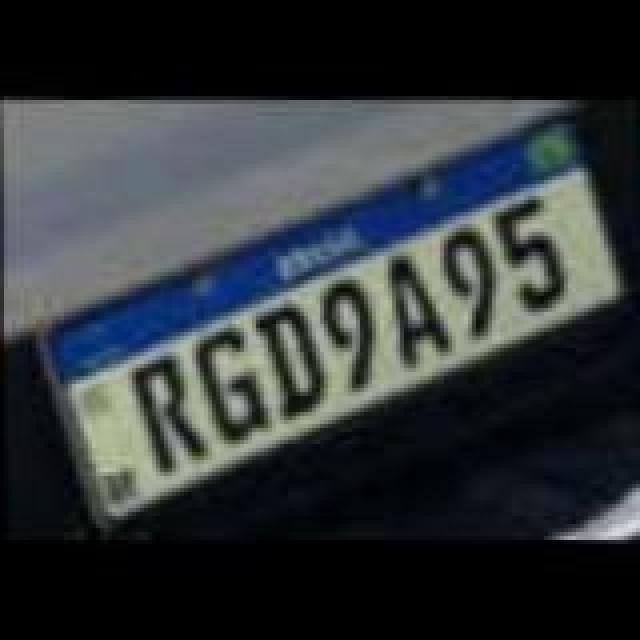5: (496, 190, 576, 314)
9: (314, 274, 386, 398), (434, 224, 506, 340)
A: (380, 250, 456, 370)
D: (252, 300, 328, 420)
G: (192, 326, 280, 446)
R: (120, 350, 208, 470)
